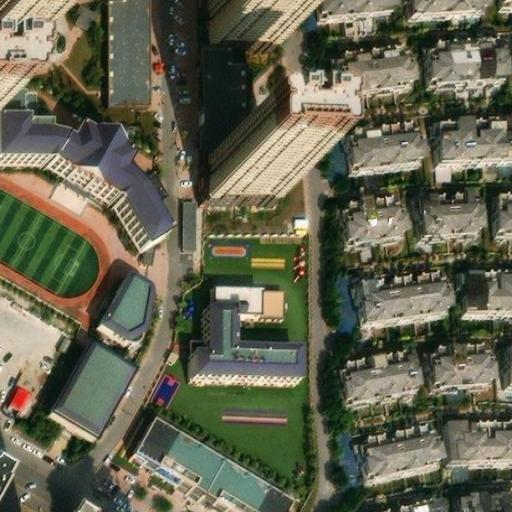building: (134, 407, 300, 512), (195, 283, 301, 371), (200, 0, 246, 182), (53, 334, 137, 428), (362, 262, 458, 313), (362, 415, 444, 468), (101, 264, 155, 338), (108, 0, 149, 97), (335, 36, 417, 83), (343, 343, 420, 393), (428, 31, 510, 73), (350, 110, 425, 155), (219, 150, 295, 194), (440, 108, 512, 151), (218, 0, 292, 40), (343, 185, 409, 229), (434, 335, 497, 377), (420, 182, 485, 221), (453, 415, 512, 457), (328, 272, 358, 330), (365, 492, 450, 512), (465, 262, 512, 298), (460, 483, 512, 512), (0, 379, 35, 416), (0, 54, 26, 95), (314, 0, 402, 10), (0, 448, 17, 497), (260, 284, 286, 314), (185, 191, 198, 245), (67, 494, 106, 511), (498, 185, 512, 228), (288, 212, 305, 230)
